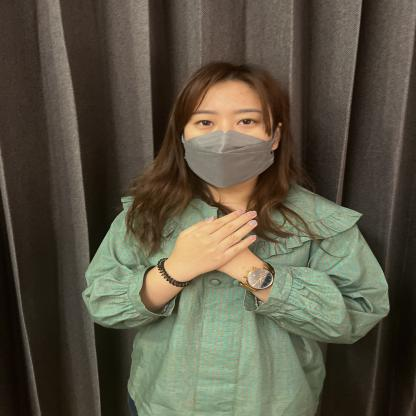Grieve: (87, 175, 391, 338)
